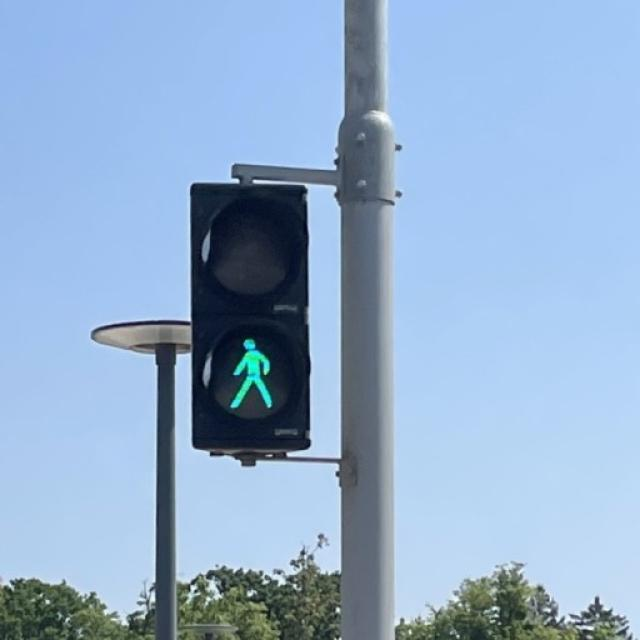green_light: (216, 336, 284, 416)
